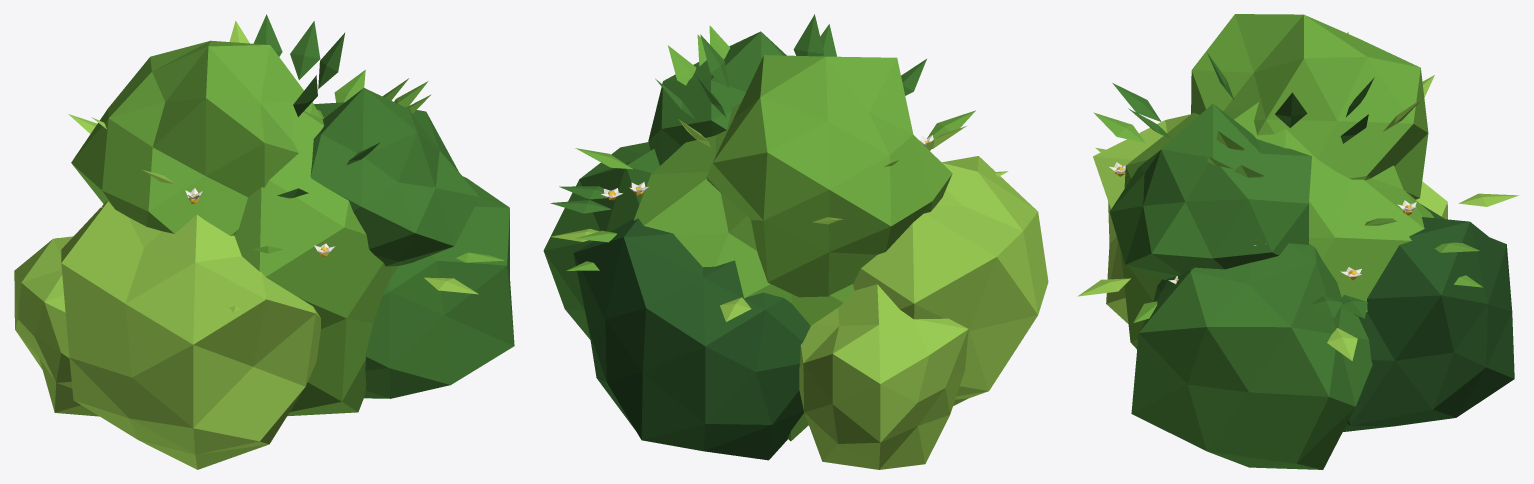
File: matorral.glb
3 views of the same model, side by side, from view 1: azimuth 30°, elevation 25°; view 2: azimuth 150°, elevation 25°; view 3: azimuth 270°, elevation 25° (orthographic).
Visible parts, largest first — view 1: matorral_hoja_clara, matorral_hoja, matorral_hoja_osc; view 2: matorral_hoja, matorral_hoja_clara, matorral_hoja_muy_osc, matorral_hoja_osc; view 3: matorral_hoja_osc, matorral_hoja, matorral_hoja_muy_osc, matorral_hoja_clara.
Boxes of the visible parts, box(x1,y1,x2,y2) form: matorral_hoja_clara: box(14, 21, 478, 469); matorral_hoja: box(71, 40, 504, 416); matorral_hoja_osc: box(253, 14, 514, 398); matorral_hoja: box(566, 25, 975, 441); matorral_hoja_clara: box(550, 119, 1048, 469); matorral_hoja_muy_osc: box(573, 218, 810, 460); matorral_hoja_osc: box(543, 14, 926, 339); matorral_hoja_osc: box(1109, 52, 1374, 469); matorral_hoja: box(1093, 14, 1483, 349); matorral_hoja_muy_osc: box(1343, 204, 1514, 431); matorral_hoja_clara: box(1077, 32, 1518, 360).
Size of the model in its own units: 2.82 by 2.34 by 2.43.
